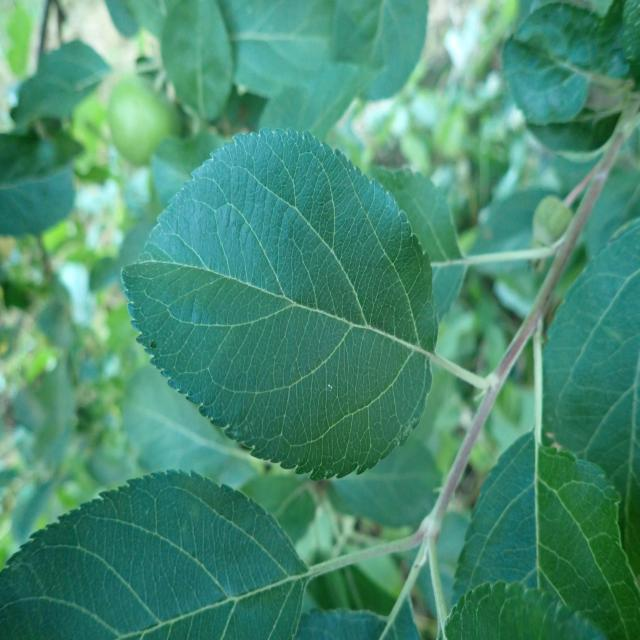healthy: (121, 127, 439, 484), (0, 467, 309, 640), (446, 428, 640, 640), (541, 214, 640, 589), (500, 0, 640, 124), (366, 162, 465, 326), (439, 579, 608, 640), (160, 0, 235, 121)
